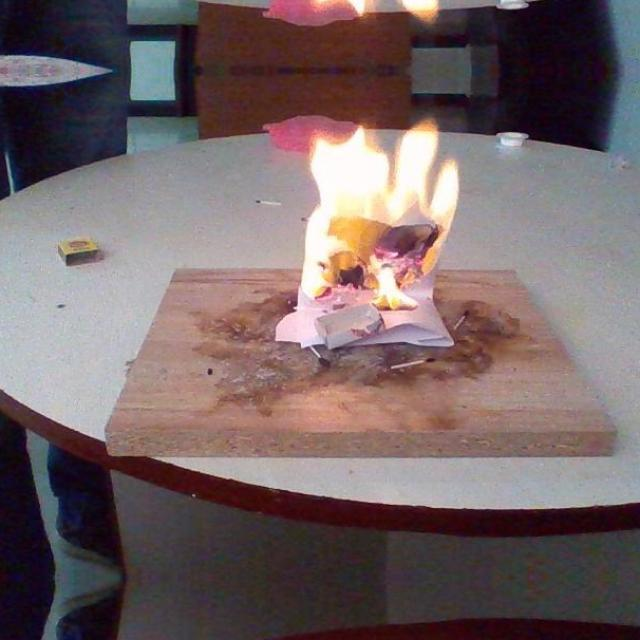smoke: (286, 114, 460, 314), (286, 0, 461, 26)
